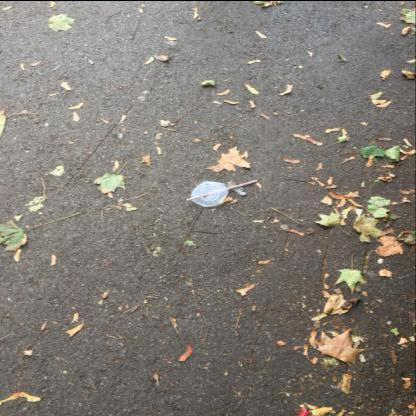Lid: (191, 180, 229, 206)
Straw: (186, 179, 258, 200)
Unlabeled litter: (298, 408, 311, 416)
